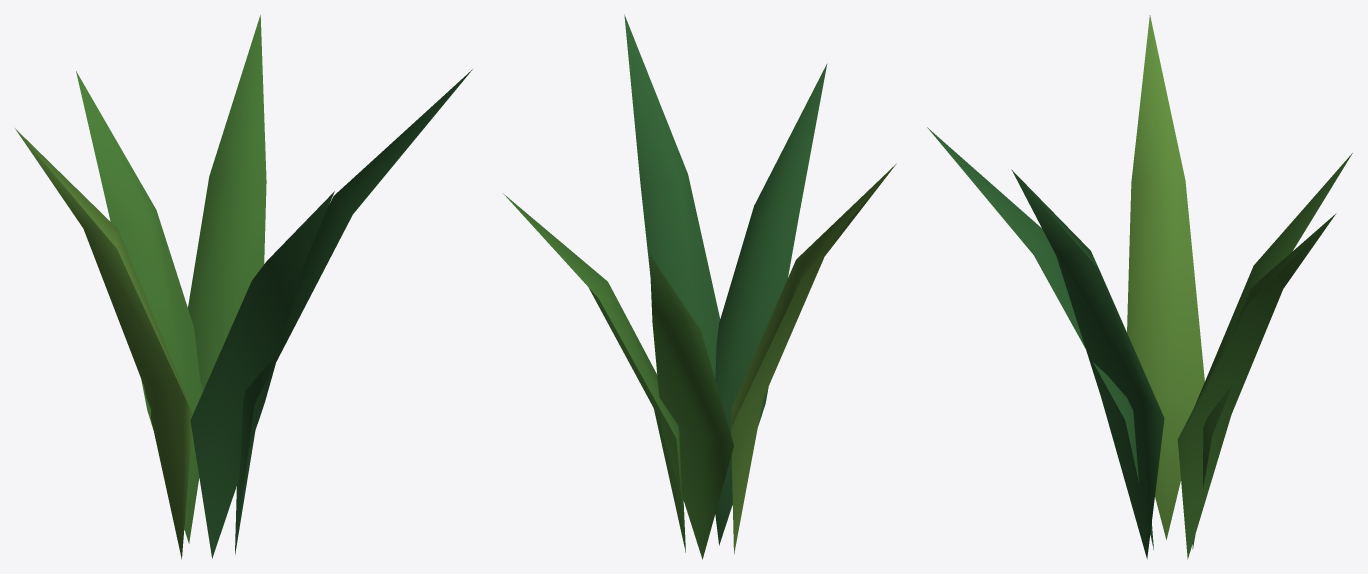
The model's file is grass_fan.glb.
The picture shows the model from 3 angles, left to right: view 1: azimuth 30°, elevation 25°; view 2: azimuth 150°, elevation 25°; view 3: azimuth 270°, elevation 25°; orthographic projection. The views are drawn at different scales.
Parts seen in each view (by area): view 1: grass_fan; view 2: grass_fan; view 3: grass_fan.
Boxes of the visible parts, x1,y1,x2,y2 form: grass_fan: (15, 15, 472, 559); grass_fan: (503, 14, 896, 559); grass_fan: (927, 15, 1352, 559).
Bounding box in the file's own units: 0.7038 × 0.878 × 0.7306.
